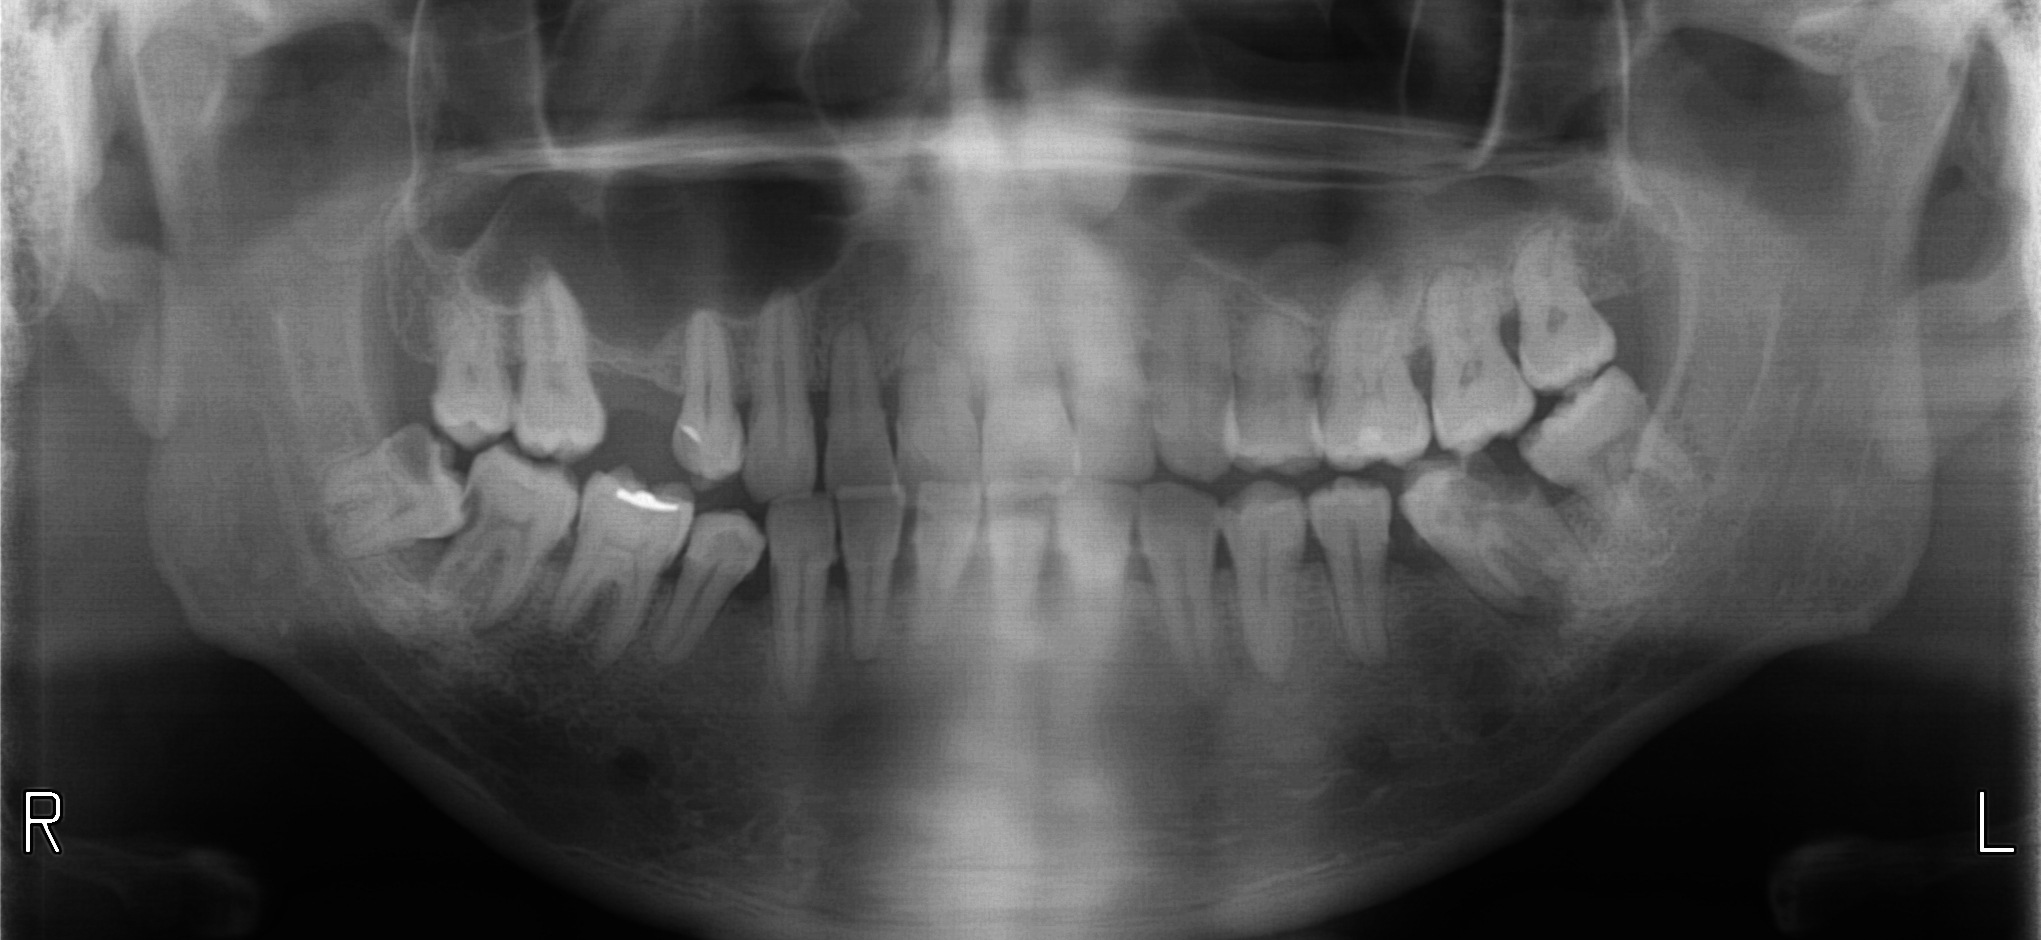cavity: (1473, 454, 1532, 497), (387, 430, 426, 480), (461, 486, 478, 530)
